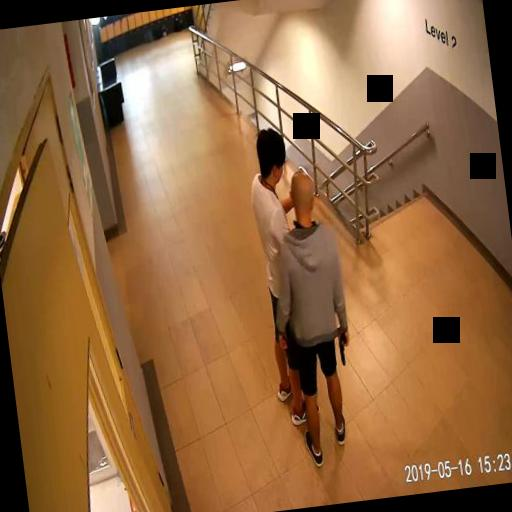Handgun: (334, 328, 350, 364)
